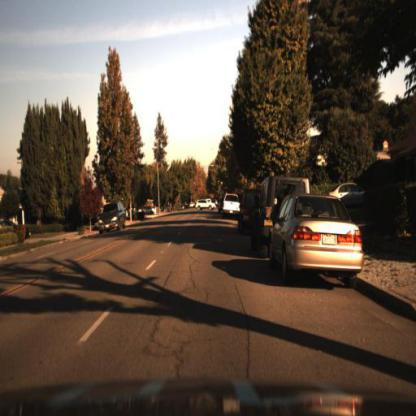car: (270, 191, 367, 280), (248, 176, 312, 261), (254, 173, 275, 260), (234, 181, 261, 241), (99, 201, 130, 235), (221, 193, 242, 224), (193, 196, 218, 215), (196, 199, 214, 212)
